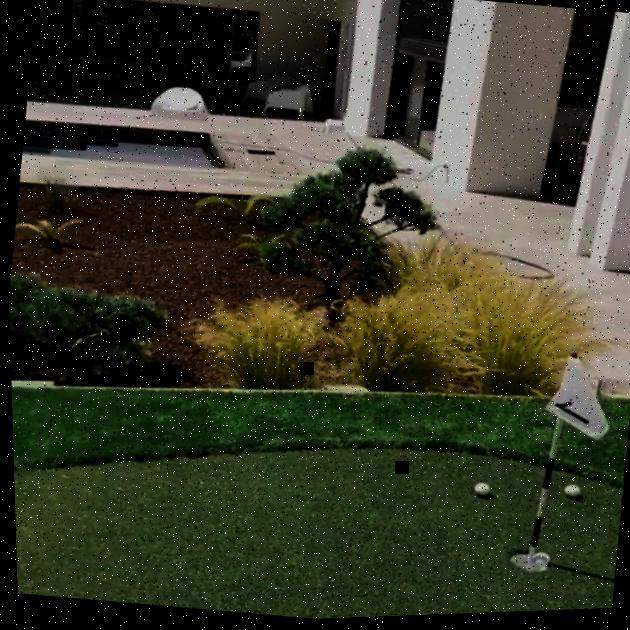GolfBall: (560, 488, 579, 504), (469, 485, 488, 500)
